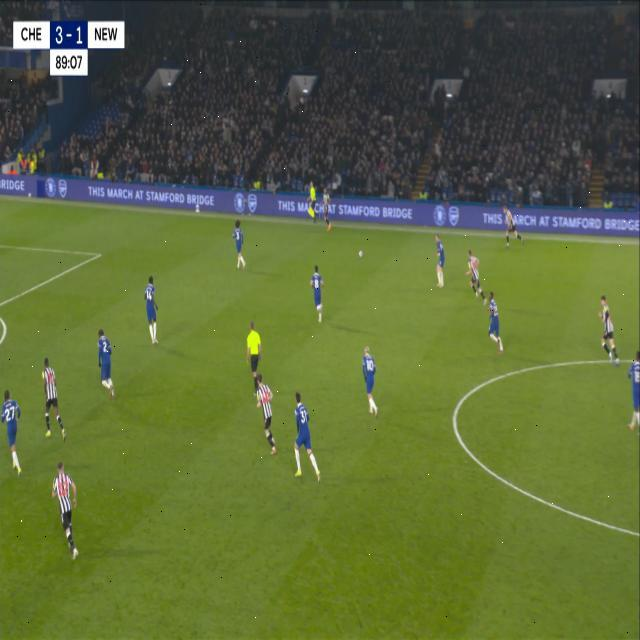Ball: (358, 248, 363, 259)
Chelsea: (289, 386, 323, 486), (0, 384, 25, 478), (94, 323, 117, 402), (359, 340, 381, 420), (145, 270, 161, 350), (486, 293, 506, 357), (626, 347, 640, 428), (309, 262, 325, 329), (230, 215, 248, 272), (430, 230, 446, 293)
Newcastle: (49, 458, 82, 564), (38, 353, 68, 447), (252, 368, 279, 460), (596, 287, 622, 368), (500, 200, 526, 252), (466, 248, 489, 306), (320, 186, 332, 234)
Refree: (244, 316, 264, 396)
